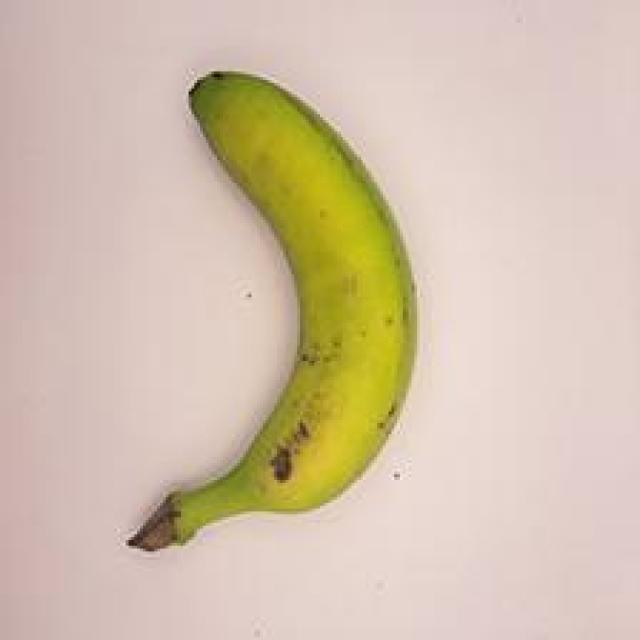Unripe: (93, 31, 438, 564)
